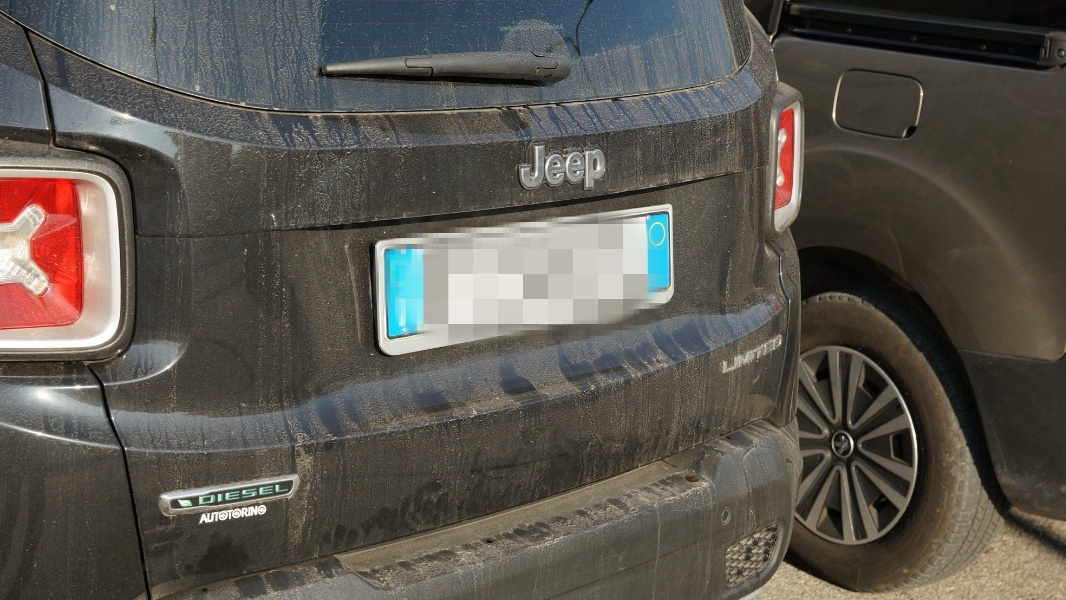text: (529, 146, 544, 199), (545, 146, 560, 199), (561, 146, 576, 199), (577, 146, 592, 199), (593, 146, 606, 199), (737, 335, 752, 376), (753, 335, 768, 376), (769, 335, 784, 376), (722, 335, 736, 376), (520, 146, 528, 199), (209, 503, 224, 525), (225, 503, 240, 525), (241, 503, 256, 525), (209, 485, 224, 506), (225, 485, 240, 506), (241, 485, 256, 506), (257, 485, 272, 506), (273, 485, 288, 506), (257, 503, 269, 525), (199, 485, 208, 506), (202, 503, 208, 525), (289, 485, 290, 506)
